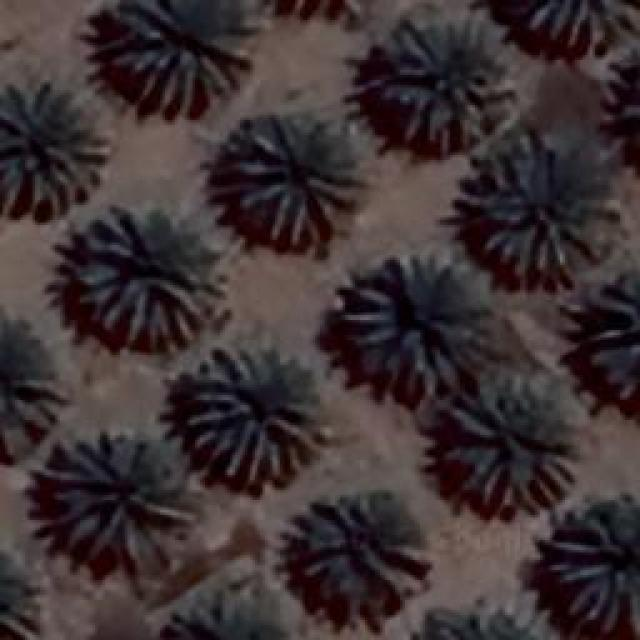PalmTree: (342, 248, 496, 390), (70, 205, 215, 353), (180, 348, 320, 490), (220, 110, 362, 248), (442, 372, 580, 512), (40, 430, 198, 552), (470, 138, 600, 278), (105, 0, 253, 118), (382, 19, 510, 152), (0, 78, 110, 218), (292, 488, 426, 590), (550, 497, 638, 635), (0, 310, 60, 450), (0, 549, 77, 640), (587, 268, 635, 402), (518, 0, 632, 48), (596, 52, 640, 175), (180, 592, 292, 640), (418, 595, 551, 635), (254, 0, 385, 30)
